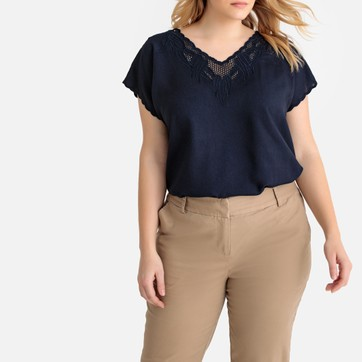C_short blouse: (121, 30, 317, 201)
